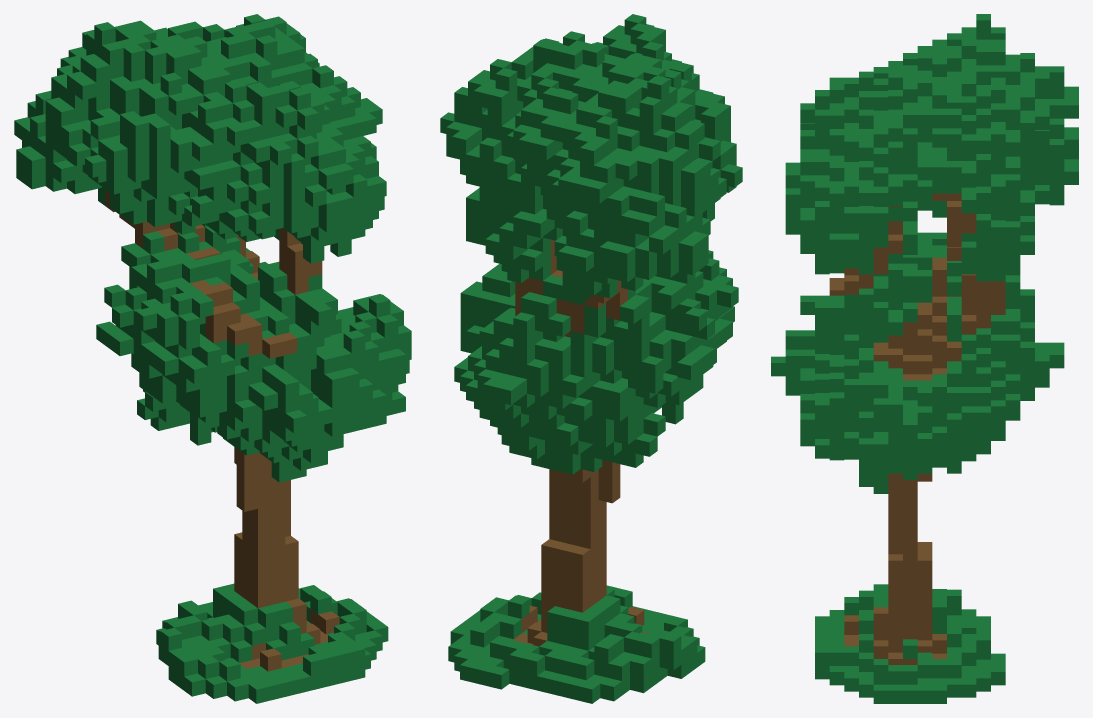
File: Arbol_02.fbx
The picture shows the model from 3 angles, left to right: view 1: azimuth 30°, elevation 25°; view 2: azimuth 150°, elevation 25°; view 3: azimuth 270°, elevation 25°; orthographic projection. The views are drawn at different scales.
Parts seen in each view (by area): view 1: _arbol02; view 2: _arbol02; view 3: _arbol02.
Part boxes in pixels (bbox=[...]): _arbol02: bbox=[14, 14, 411, 703]; _arbol02: bbox=[440, 14, 742, 703]; _arbol02: bbox=[771, 14, 1078, 703].
Size of the model in its own units: 220 by 440 by 210.
1 material, 1 textured.
